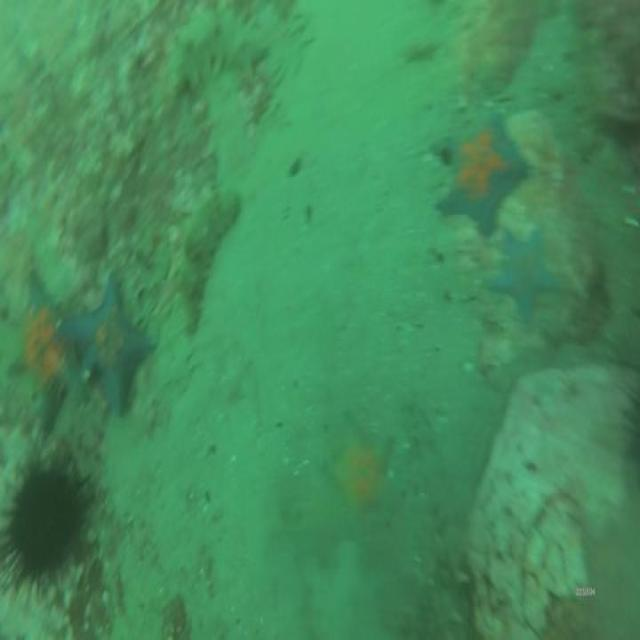echinus: (8, 466, 81, 577)
holothurian: (175, 18, 266, 94), (183, 188, 234, 322)
scallop: (463, 357, 477, 379)
starfish: (70, 278, 156, 414), (430, 119, 524, 232), (326, 412, 396, 518), (9, 275, 67, 398), (485, 232, 551, 312)
